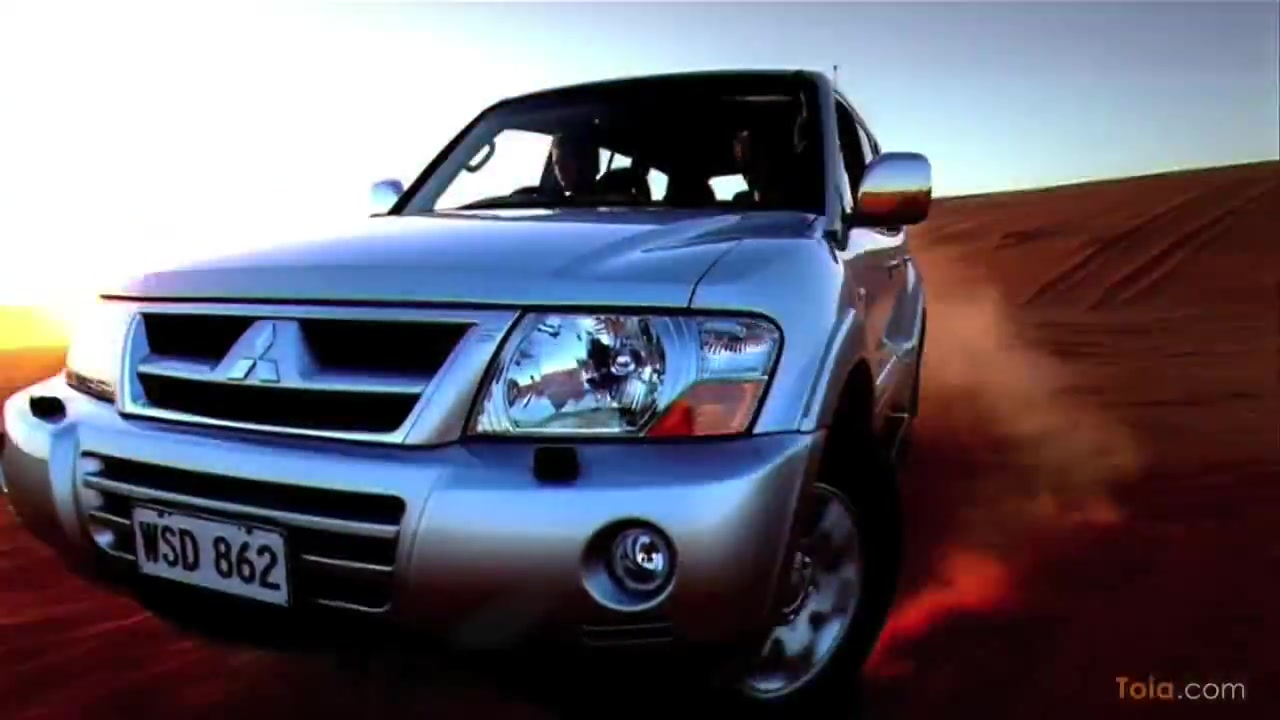car: (1, 66, 933, 706)
